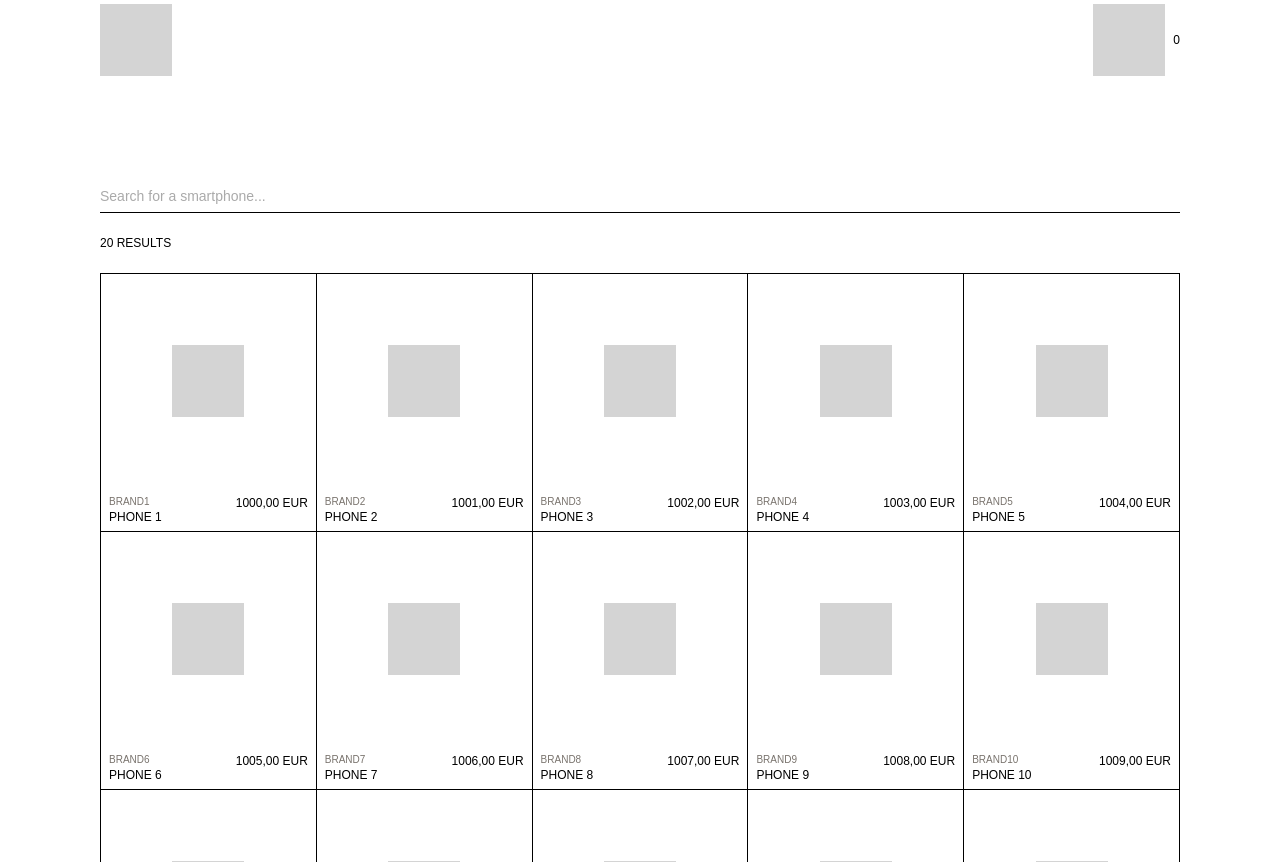
Test: catalog search › ignores a superseded response that arrives later
Expected: the text "20 RESULTS" is shown, top-left (100, 236), bottom-right (171, 250)
Type "sam" into the search field at (640, 196), box top-left (100, 180), bottom-right (1180, 213)
Wait 300 ms
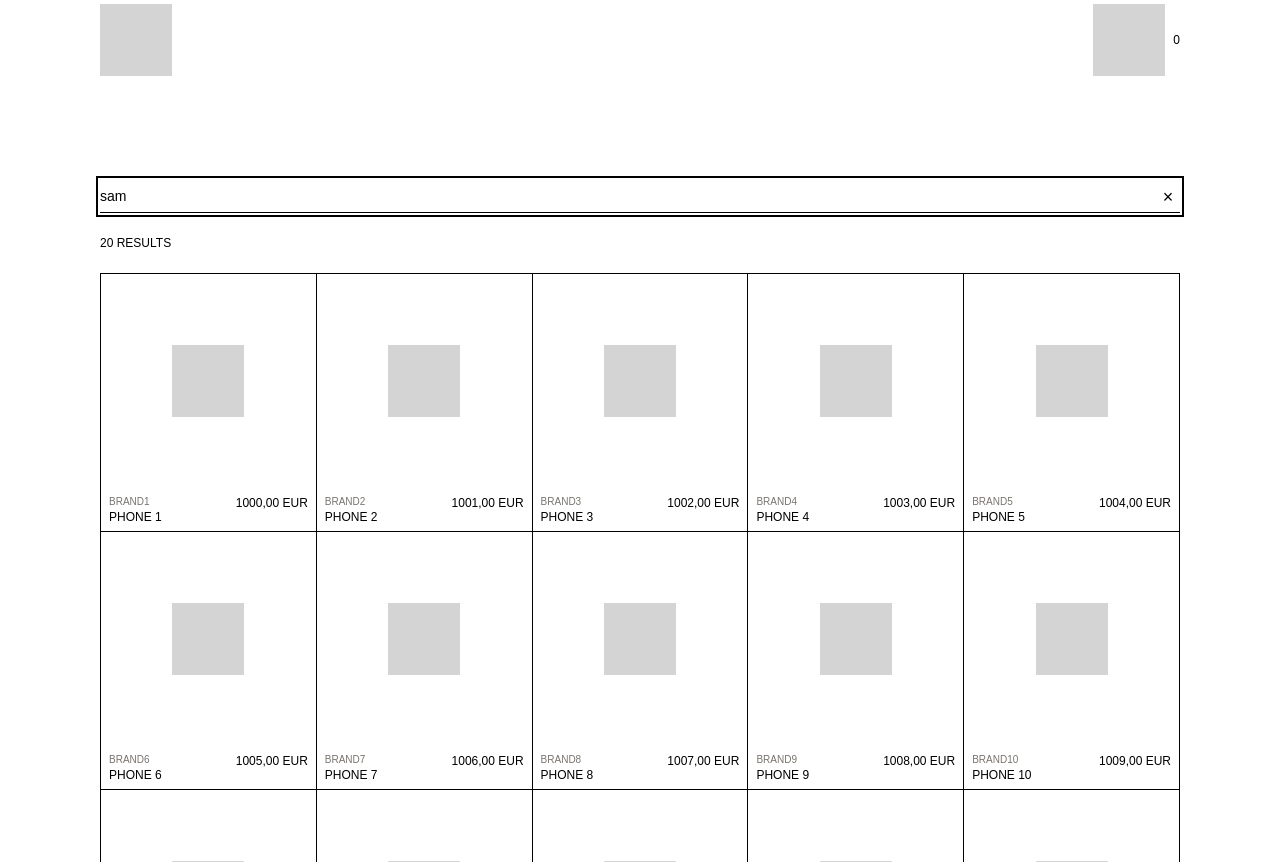
Type "more" into the search field at (640, 196), box top-left (100, 180), bottom-right (1180, 213)
Wait 300 ms
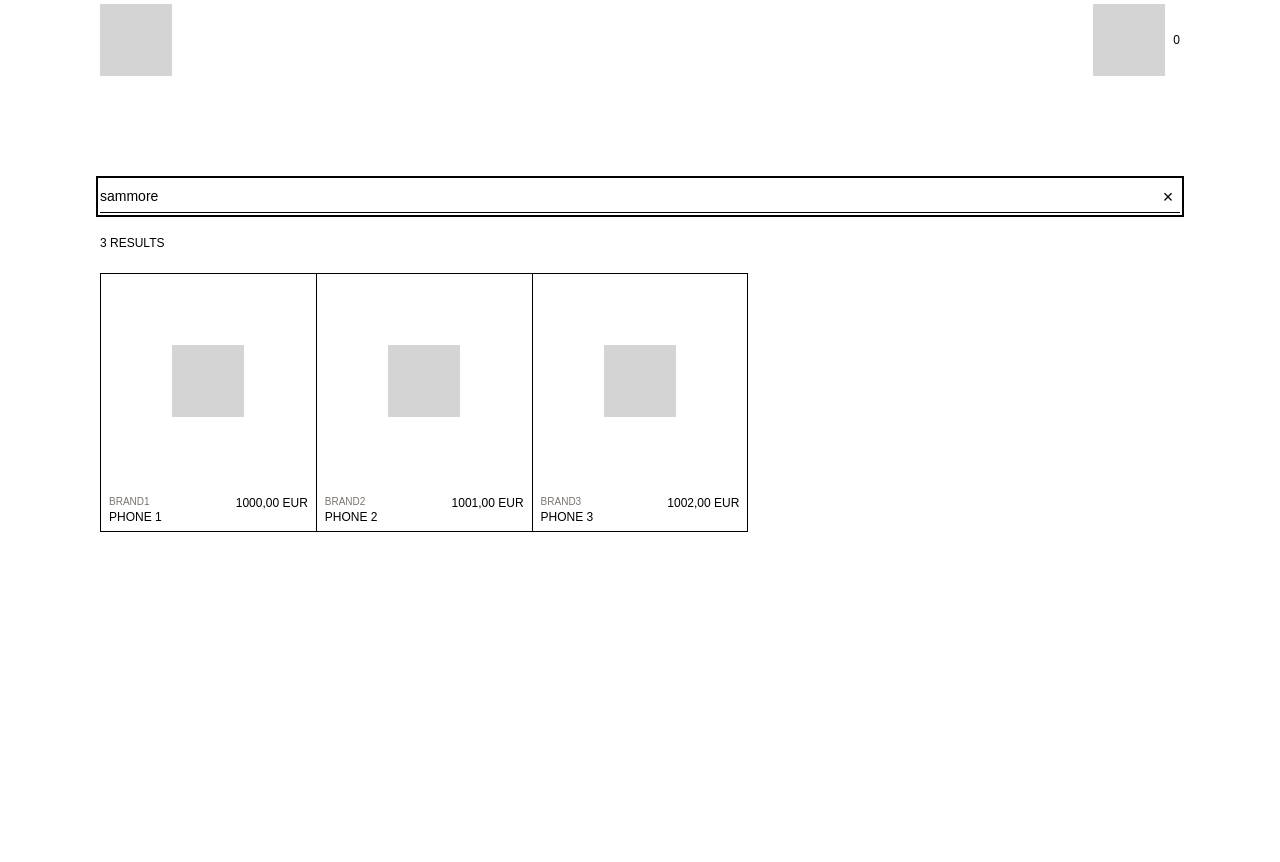
Now the text "3 RESULTS" is shown, box top-left (100, 236), bottom-right (164, 250)
